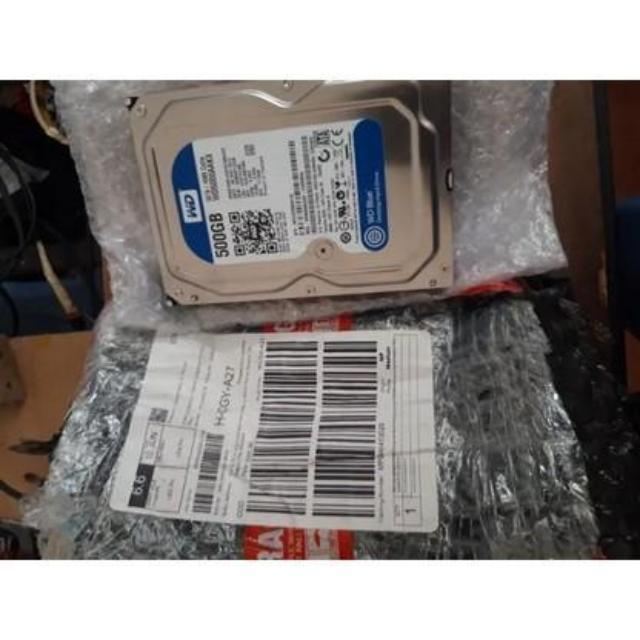DISK: (120, 76, 469, 308)
